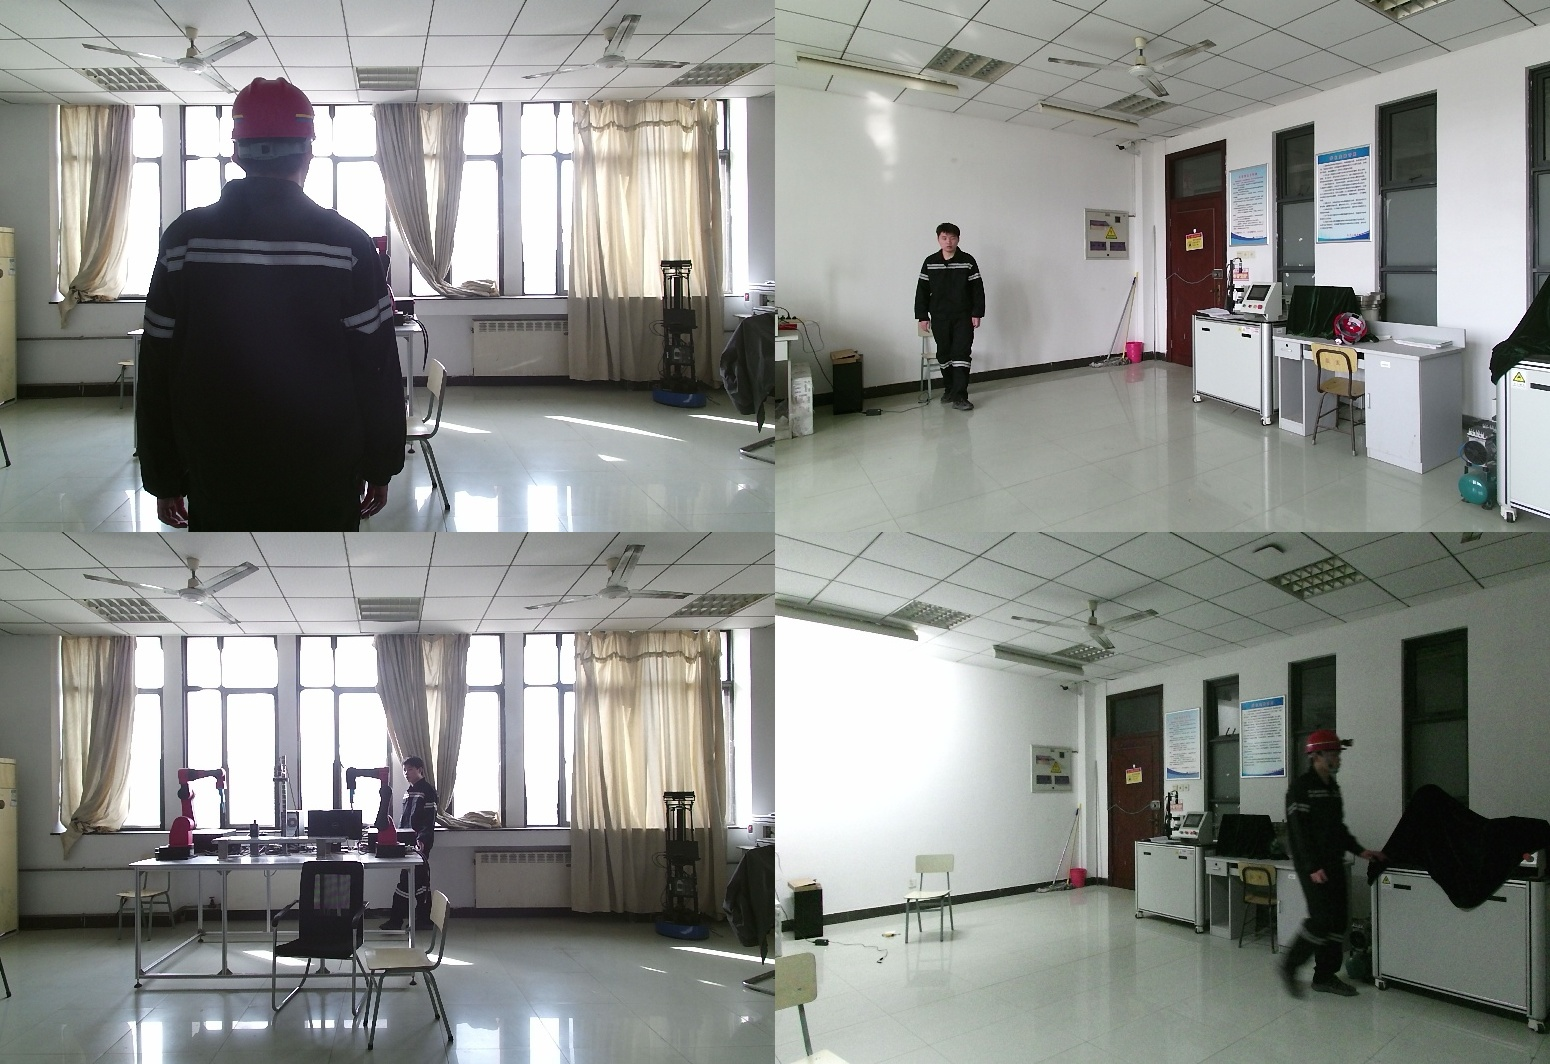person: (136, 79, 409, 532), (1266, 730, 1378, 995), (910, 225, 984, 412), (380, 757, 445, 939)
